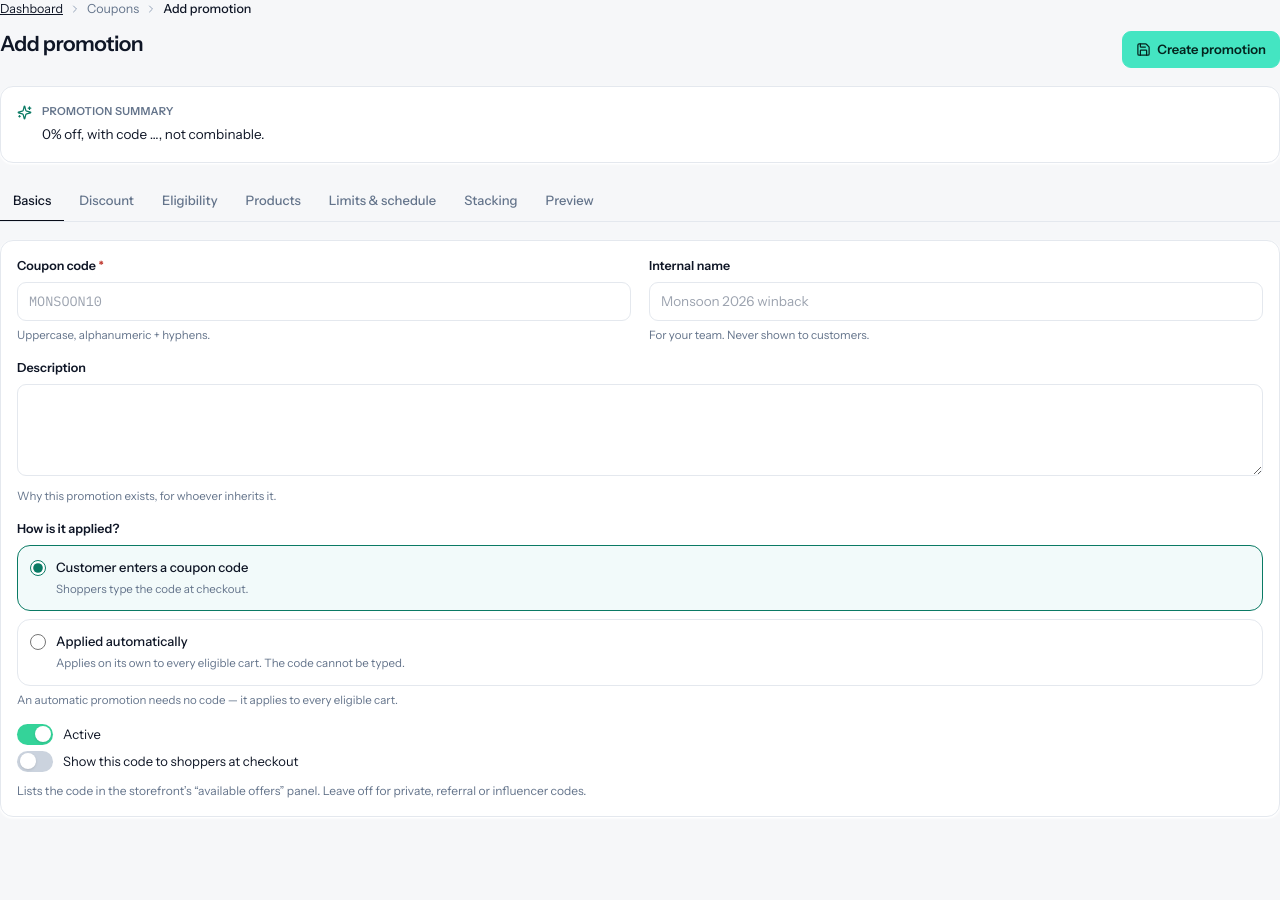
Test: CouponEditor Preview Tab - Interactive Dry-Run › renders rejection reason and evaluation checks when promotion is not eligible
The width and height of the screenshot is (1280, 900).
Switch to Preview tab
Click the button "Preview".
click(570, 201)  # box left=533, top=181, right=607, bottom=222
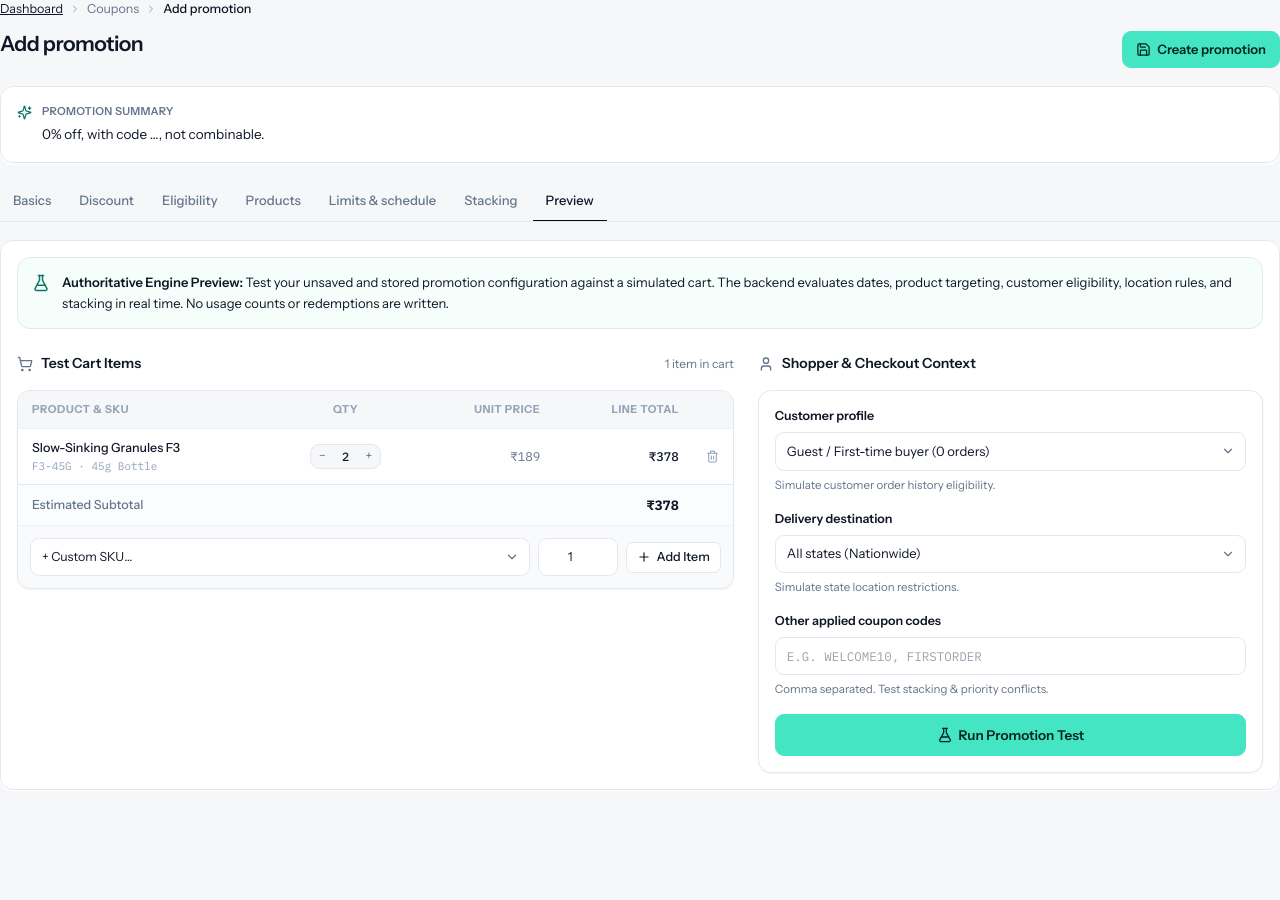
Run preview
Click the button "Run Promotion Test".
click(1010, 735)  # box left=775, top=714, right=1246, bottom=756
(page scrolled)
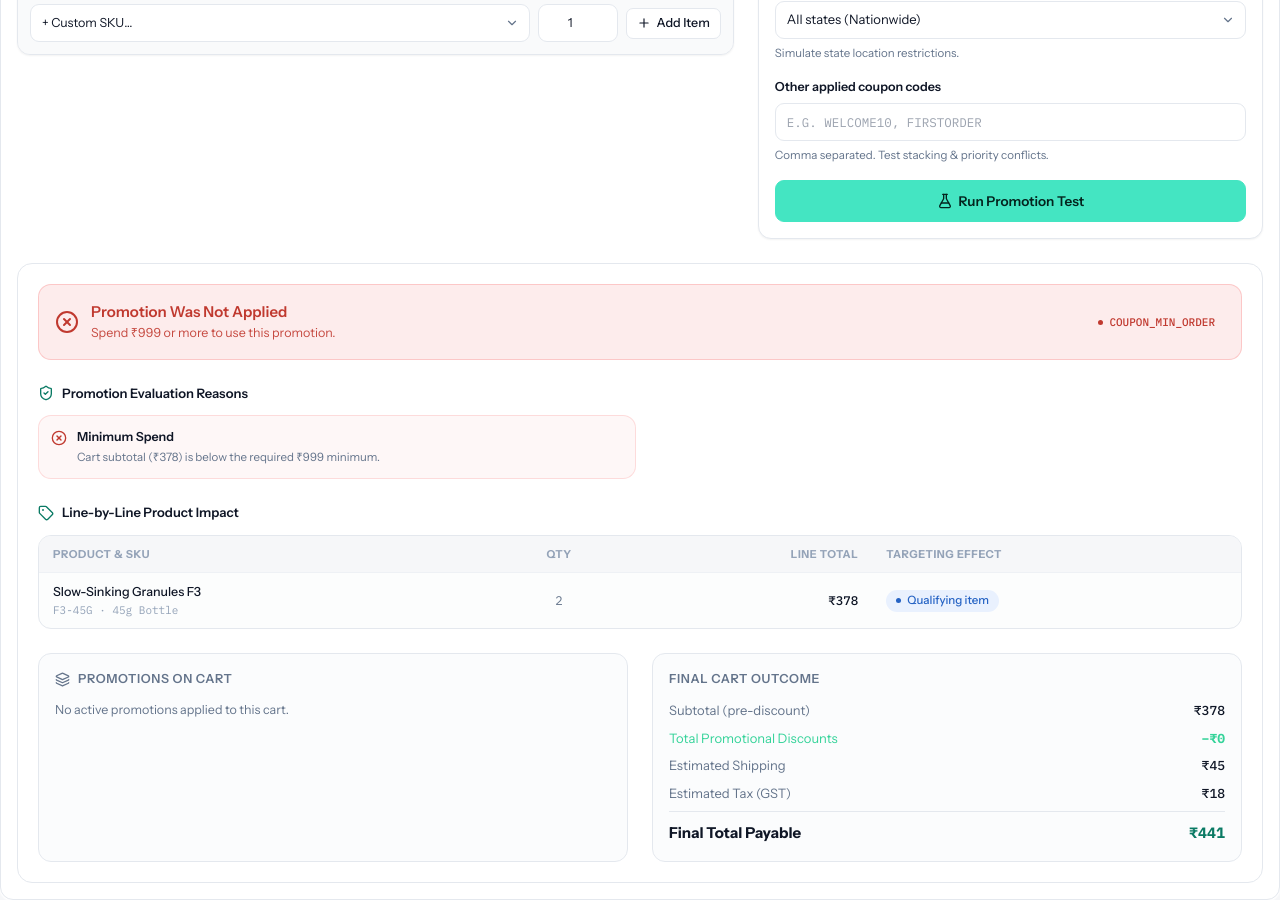
Now the text "Promotion Was Not Applied" is shown, box left=91, top=302, right=287, bottom=321
Now the text "COUPON_MIN_ORDER" is shown, box left=1088, top=311, right=1225, bottom=333
Now the text "Cart subtotal (₹378) is below the required ₹999 minimum." is shown, box left=77, top=450, right=380, bottom=464
